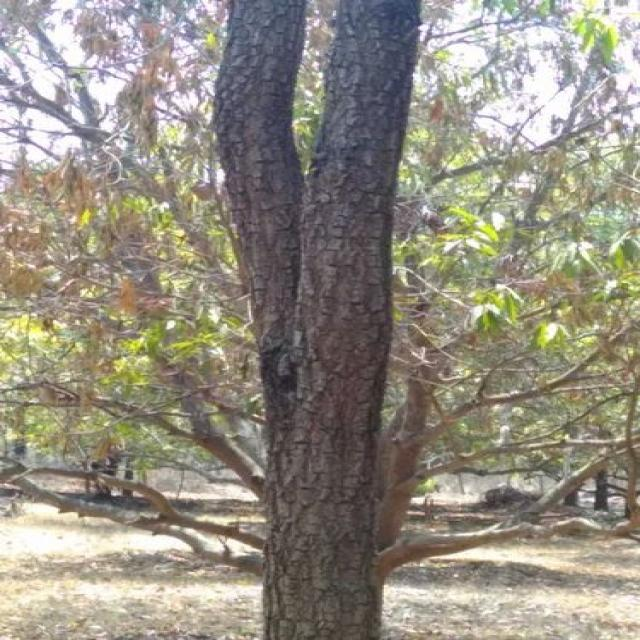Medicinal-Sandalwood: (78, 0, 575, 640)
